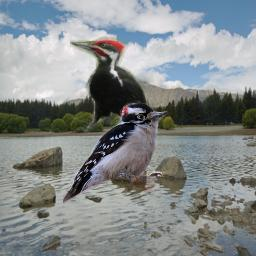Woodpecker: (63, 103, 168, 205), (70, 33, 154, 133)
